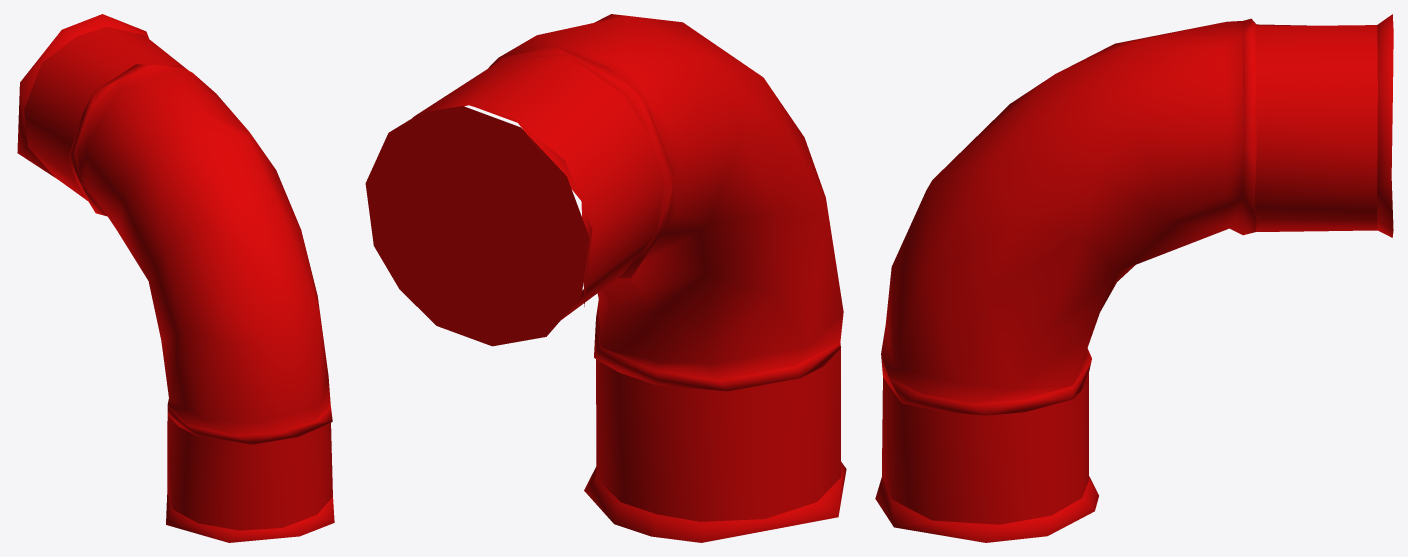
The picture shows the model from 3 angles, left to right: view 1: azimuth 30°, elevation 25°; view 2: azimuth 150°, elevation 25°; view 3: azimuth 270°, elevation 25°; orthographic projection. The views are drawn at different scales.
Parts seen in each view (by area): view 1: Mesh; view 2: Mesh; view 3: Mesh.
Boxes of the visible parts, box(x1,y1,x2,y2) form: Mesh: box(17, 14, 334, 542); Mesh: box(365, 14, 846, 542); Mesh: box(875, 14, 1393, 542).
Size of the model in its own units: 0.4496 by 1.01 by 1.01.
